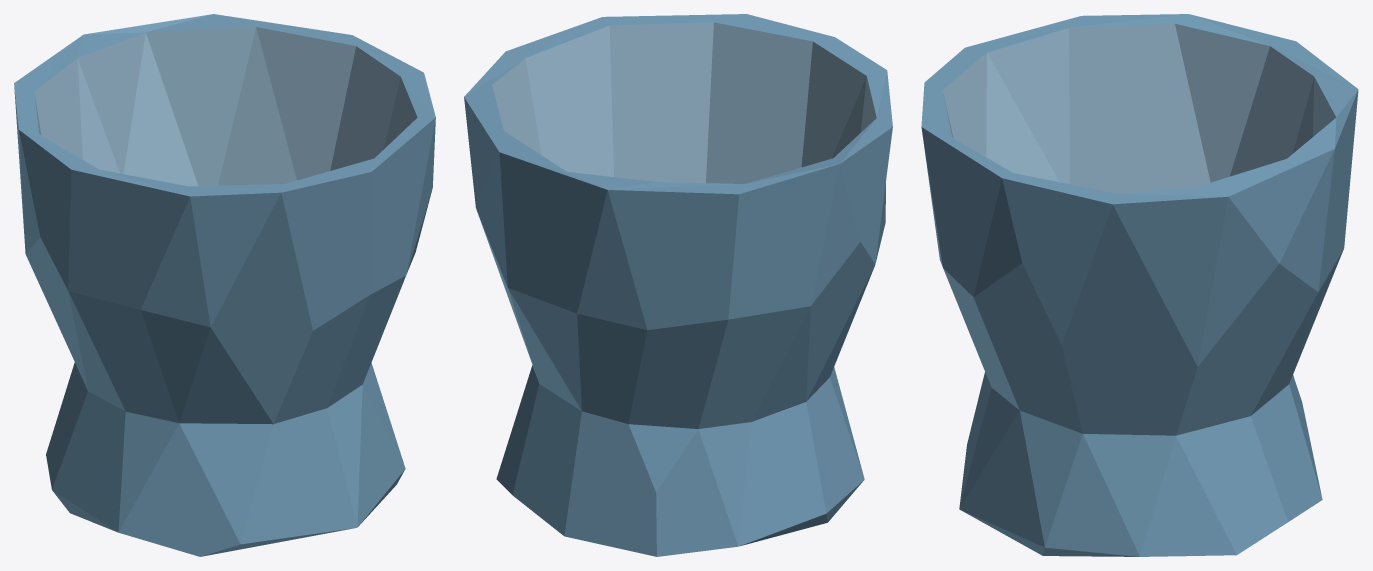
Rendered from DrinkingGlass02.fbx.
The picture shows the model from 3 angles, left to right: view 1: azimuth 30°, elevation 25°; view 2: azimuth 150°, elevation 25°; view 3: azimuth 270°, elevation 25°; orthographic projection. The views are drawn at different scales.
Visible parts, largest first — view 1: DrinkingGlass02LowPoly; view 2: DrinkingGlass02LowPoly; view 3: DrinkingGlass02LowPoly.
Part boxes in pixels (x1,y1,x2,y2): DrinkingGlass02LowPoly: [14, 14, 435, 556]; DrinkingGlass02LowPoly: [464, 14, 892, 556]; DrinkingGlass02LowPoly: [921, 14, 1358, 556].
Size of the model in its own units: 8.14 by 7.99 by 8.15.
